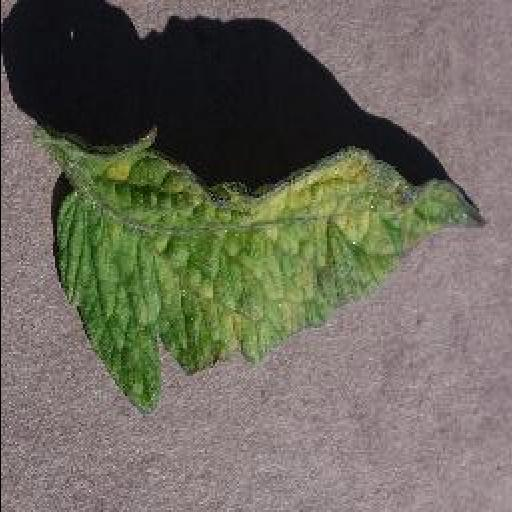disease_tomato: (54, 127, 490, 415)
